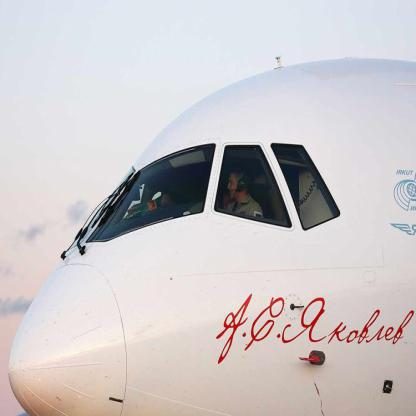CIV_Plane: (6, 53, 416, 413)
